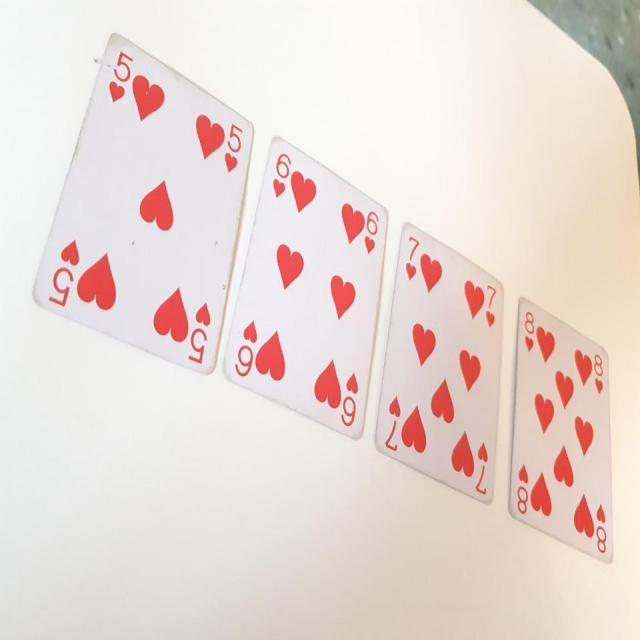5 of hearts: (28, 17, 254, 389)
6 of hearts: (222, 122, 390, 449)
7 of hearts: (370, 208, 506, 502)
8 of hearts: (508, 289, 622, 565)
